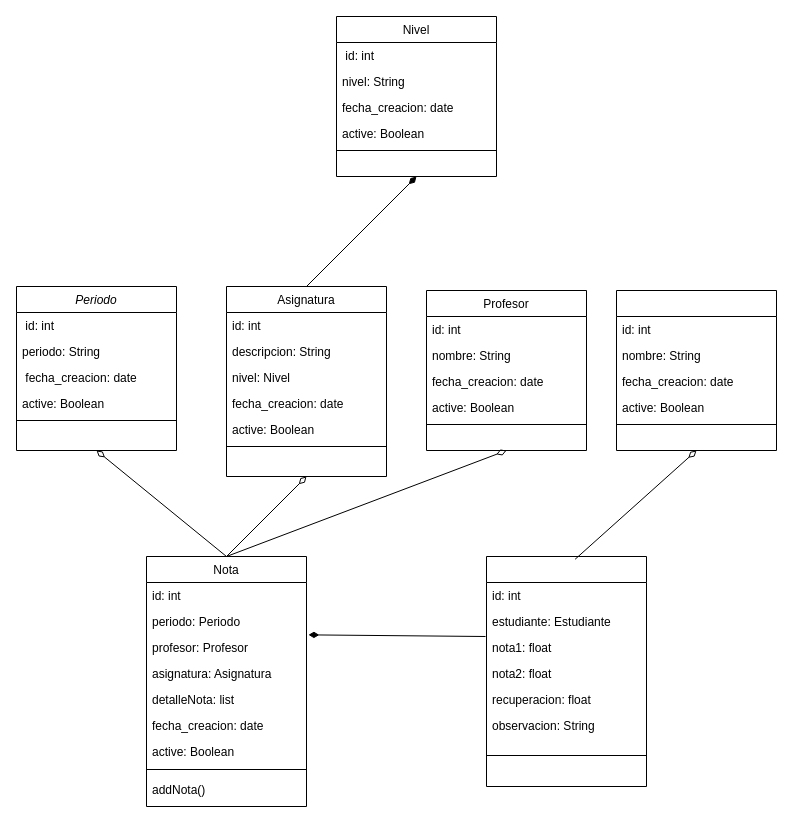
Some shapes in this 793 by 823 pixel diagram are drawn without their labels. The shapes that lost their labels are listed below. From the top down, each one's box as (x1, y1, x2, y2) in pixels, then its label:
(616, 290, 776, 450): Estudiante
(486, 556, 646, 786): DetalleNota
